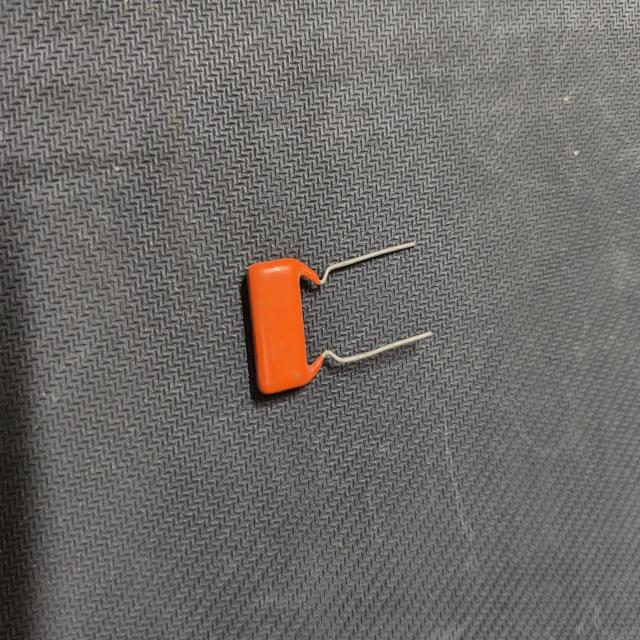capacitor: (225, 218, 443, 407)
